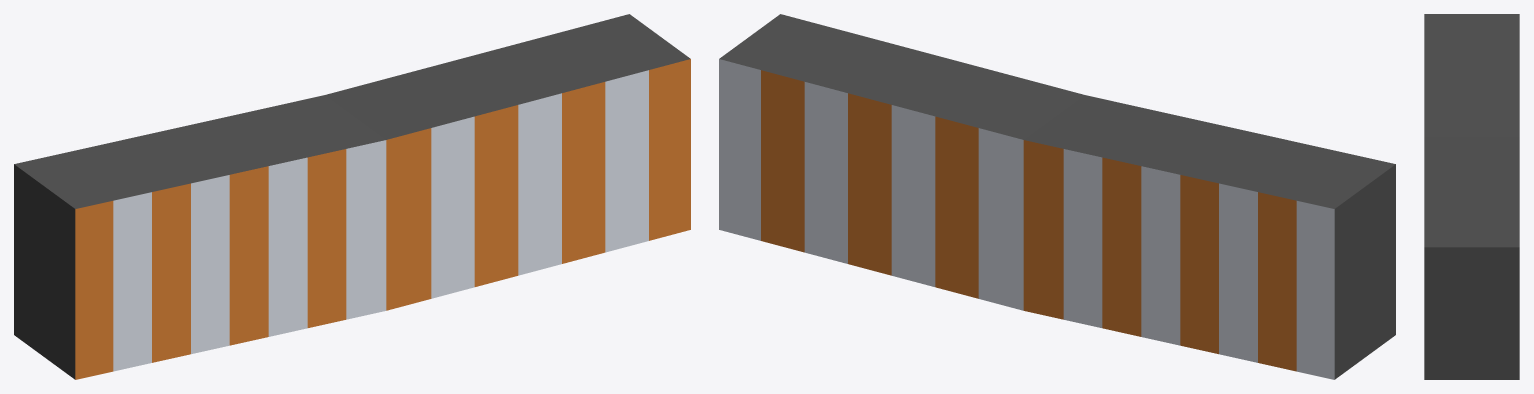
File: blockade.glb
3 renders of one model, left to right at view 1: azimuth 30°, elevation 25°; view 2: azimuth 150°, elevation 25°; view 3: azimuth 270°, elevation 25°, orthographic. The views are drawn at different scales.
Visible parts, largest first — view 1: Cube; view 2: Cube; view 3: Cube.
Part boxes in pixels (box(x1,y1,x2,y2)): Cube: box(14, 14, 690, 379); Cube: box(719, 14, 1395, 379); Cube: box(1424, 14, 1519, 379).
Size of the model in its own units: 6.05 by 1.67 by 1.05.
